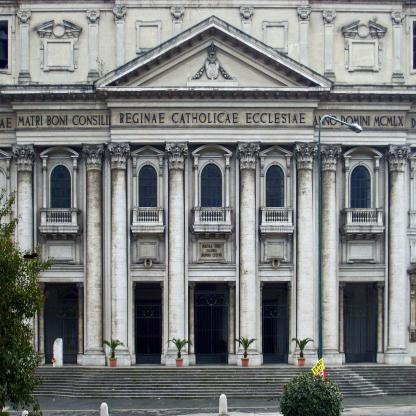Building Outline: (0, 0, 416, 399)
Cornice: (93, 14, 334, 92), (343, 146, 383, 158), (192, 144, 232, 156), (39, 146, 80, 157), (130, 144, 166, 156), (258, 144, 293, 156)
Deco: (186, 43, 238, 87), (120, 113, 306, 123), (18, 116, 111, 126), (313, 116, 404, 126), (200, 242, 224, 259), (0, 117, 12, 128), (411, 118, 416, 129)
Door: (188, 281, 236, 365), (37, 282, 84, 366), (339, 281, 385, 364), (261, 281, 292, 366), (133, 281, 164, 366)
Facade: (1, 91, 415, 365)
Floor Slab: (0, 265, 416, 271)
Ground Floor: (0, 271, 416, 366)
Molding: (0, 90, 416, 105)
Pillar: (384, 143, 412, 365), (292, 141, 319, 365), (235, 140, 261, 365), (10, 143, 36, 366), (164, 140, 189, 366), (106, 141, 131, 366), (81, 142, 106, 366), (318, 143, 342, 365), (373, 281, 385, 364), (36, 282, 46, 365), (188, 281, 196, 366), (228, 281, 236, 365), (76, 282, 84, 365), (339, 281, 346, 365), (260, 281, 264, 365), (132, 281, 136, 364), (160, 281, 164, 364), (287, 281, 291, 363)
Top Floor: (0, 91, 416, 271)
Window: (201, 164, 222, 225), (350, 166, 371, 226), (137, 165, 158, 225), (50, 165, 71, 225), (265, 165, 285, 225)
dont: (277, 115, 363, 416), (0, 187, 55, 416), (166, 337, 193, 367), (101, 335, 125, 366), (291, 336, 315, 366), (235, 336, 258, 366), (51, 338, 63, 367), (219, 394, 228, 414), (100, 402, 109, 416)
